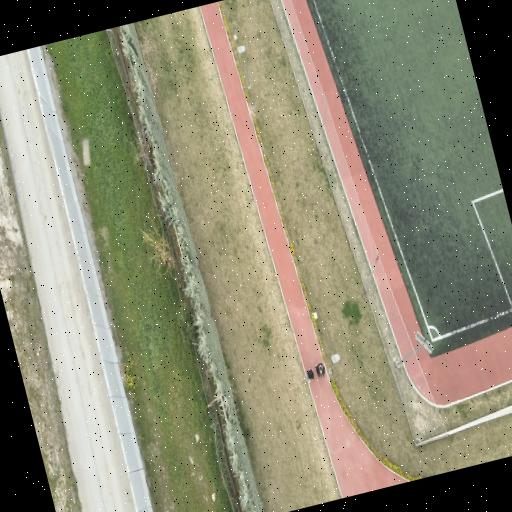person: (317, 364, 325, 376), (307, 369, 314, 382)
